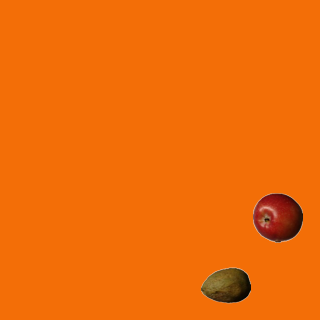Apple Braeburn: (252, 192, 302, 242)
Papaya: (200, 260, 250, 310)
